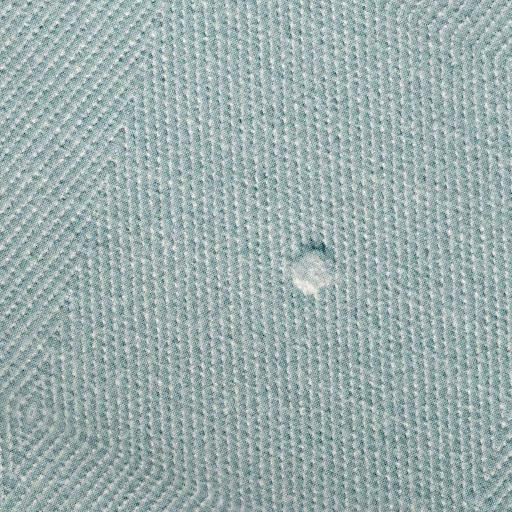knot: (282, 237, 346, 300)
